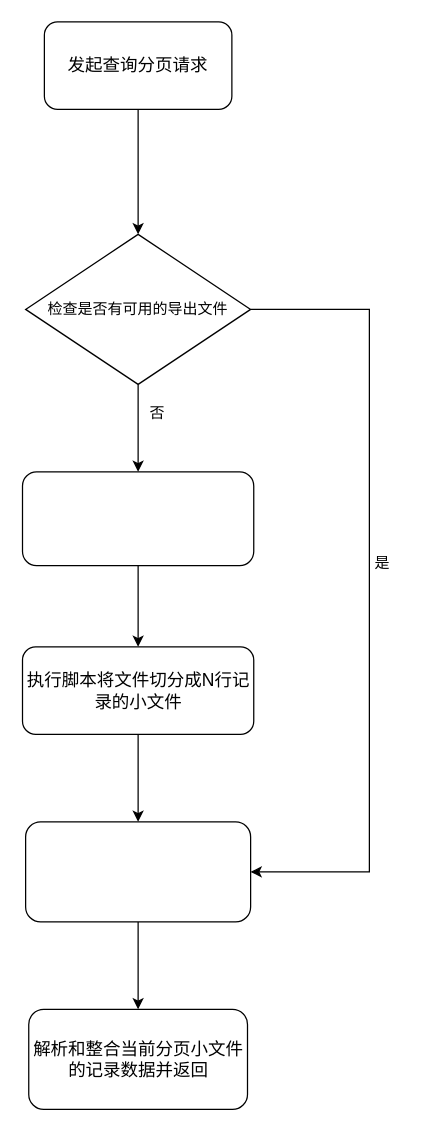
This 428x1131 diagram has some shape labels left out. The shapes that lost their labels are listed below. From the top down, each one's centre as x and y in pixels, then its label:
(x=137, y=518): 执行脚本一次查询并导出文件
(x=137, y=871): 查询到当前分页的小文件并读取
